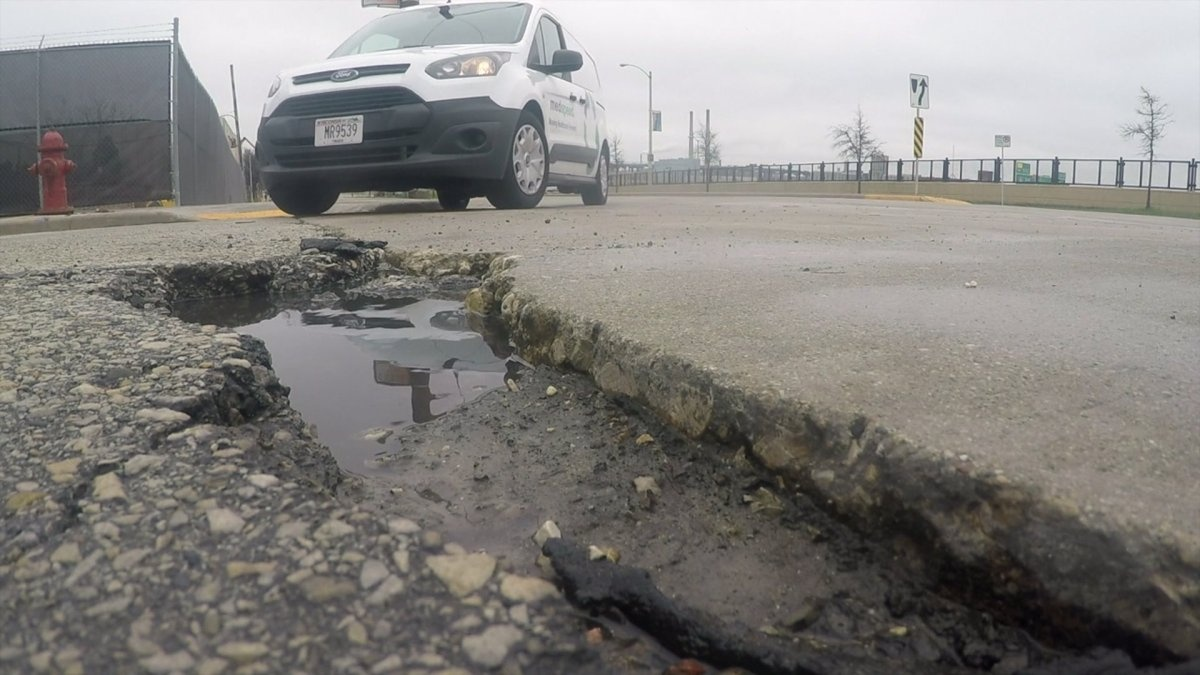pothole: (102, 225, 639, 444)
